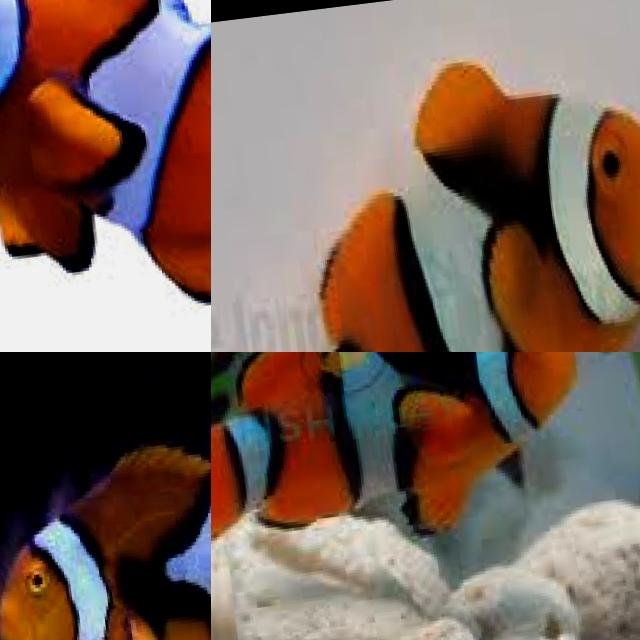Amphiprion-percula: (211, 21, 640, 352), (211, 352, 598, 564), (0, 0, 211, 352), (0, 352, 211, 640)
